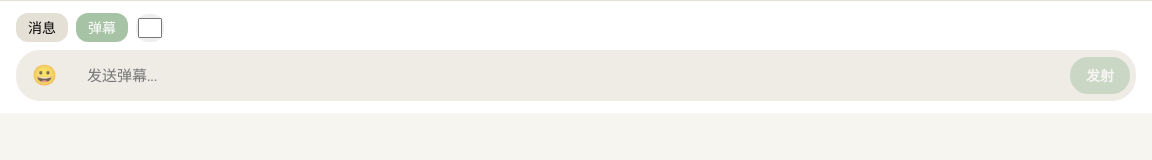
Scenario: MessageInput › 输入测试 › 清空输入后发送按钮应该禁用
This screenshot has width=1152, height=160.
Type "测试消息" into the field with class "input-field" at (568, 76), box [75,58,1062,94]
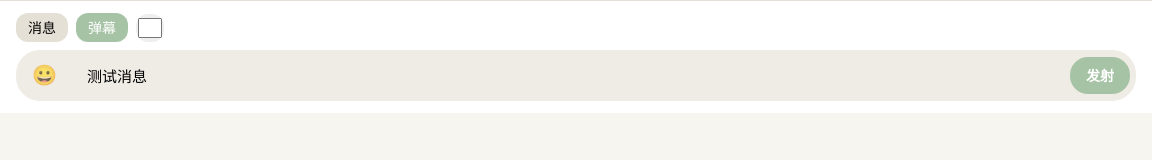
Clear the field with class "input-field" at (568, 76), box [75,58,1062,94]
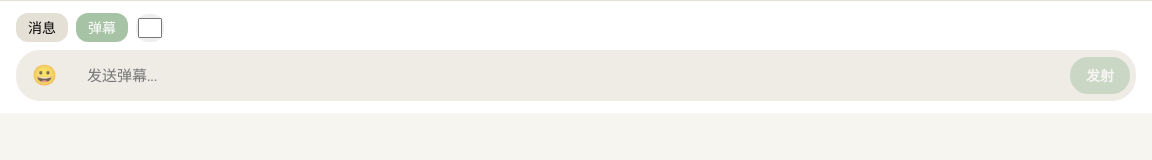
Check: the button with class "btn-send" is disabled, box [1070,57,1130,94]
